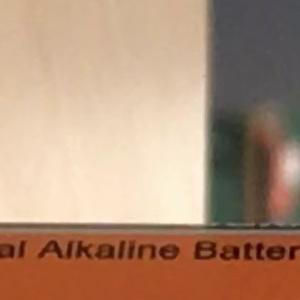keyword: (28, 229, 85, 269)
